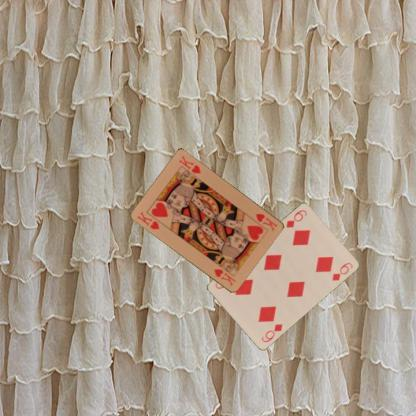6d: (259, 321, 284, 343), (284, 207, 308, 229)
Kh: (252, 210, 278, 233), (135, 209, 161, 231)
